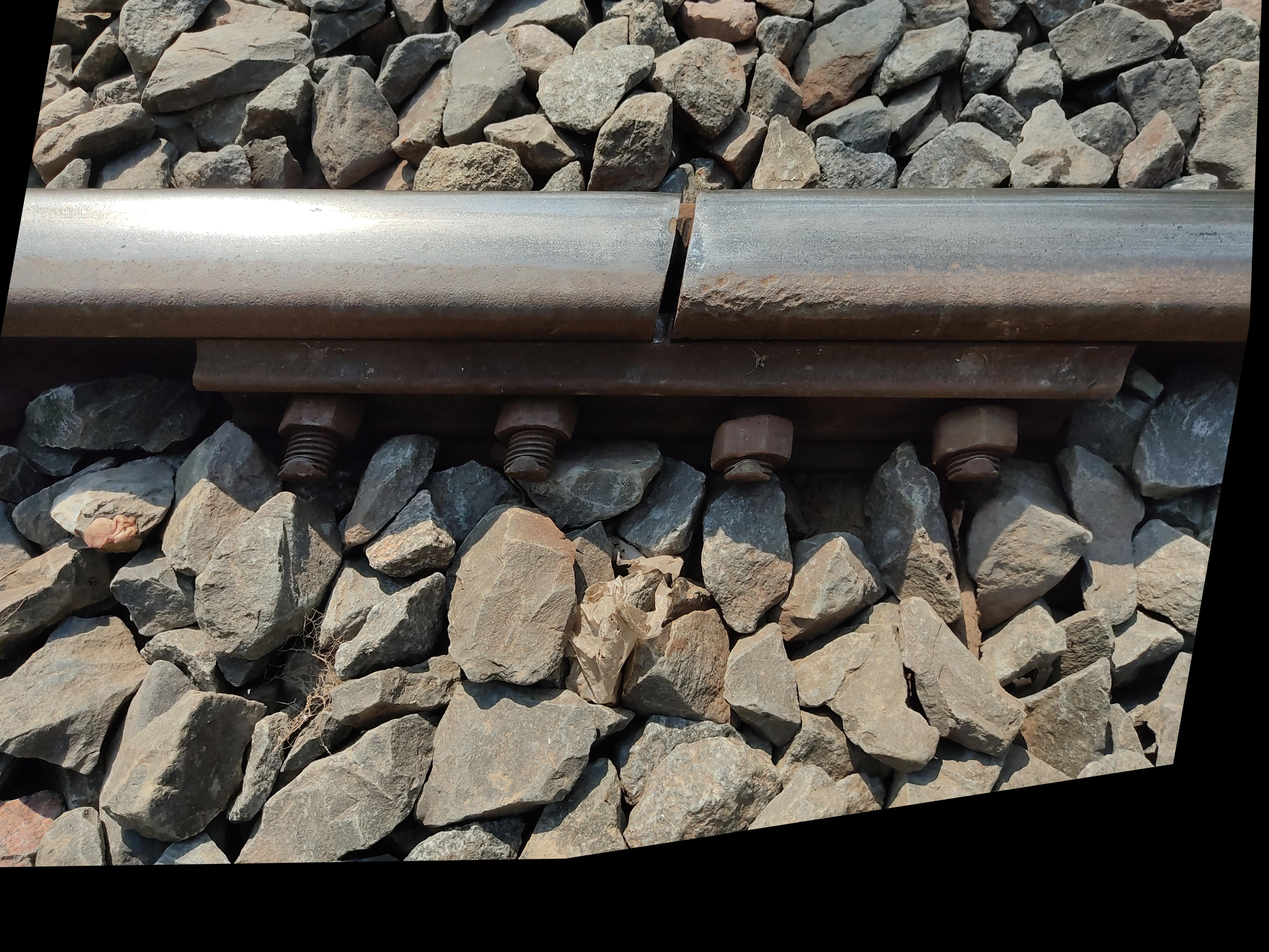person: (607, 46, 893, 348)
